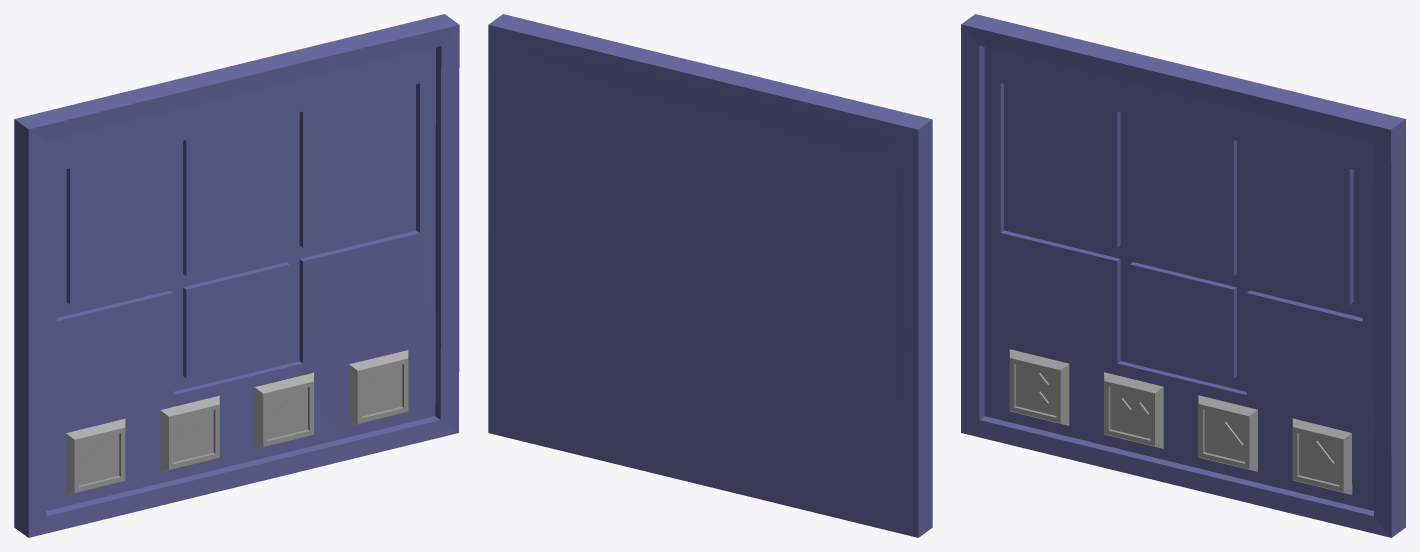
File: Tablero.fbx
3 views of the same model, side by side, from view 1: azimuth 30°, elevation 25°; view 2: azimuth 150°, elevation 25°; view 3: azimuth 330°, elevation 25° (orthographic).
Parts seen in each view (by area): view 1: polySurface26, pCube37, pCube36, pCube35, pCube38; view 2: polySurface26; view 3: polySurface26, pCube35, pCube36, pCube37, pCube38.
Boxes of the visible parts, x1,y1,x2,y2 form: polySurface26: (14,14,459,537); pCube37: (254,372,314,449); pCube36: (160,395,219,472); pCube35: (66,418,125,495); pCube38: (349,350,408,426); polySurface26: (488,14,932,537); polySurface26: (961,14,1405,537); pCube35: (1009,349,1069,425); pCube36: (1104,372,1163,448); pCube37: (1198,395,1257,471); pCube38: (1292,418,1352,494).
Bounding box in the file's own units: 4.56 × 4.14 × 0.2719.
